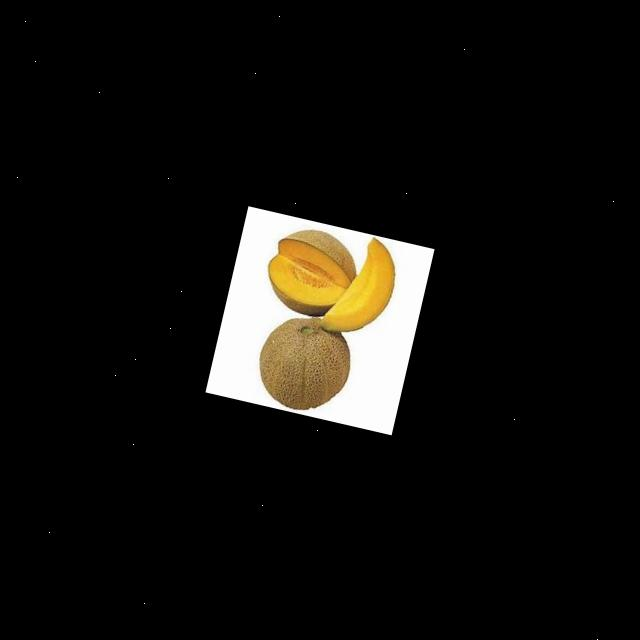Hami Melon: (248, 310, 359, 420), (258, 220, 364, 323), (318, 230, 403, 344)
